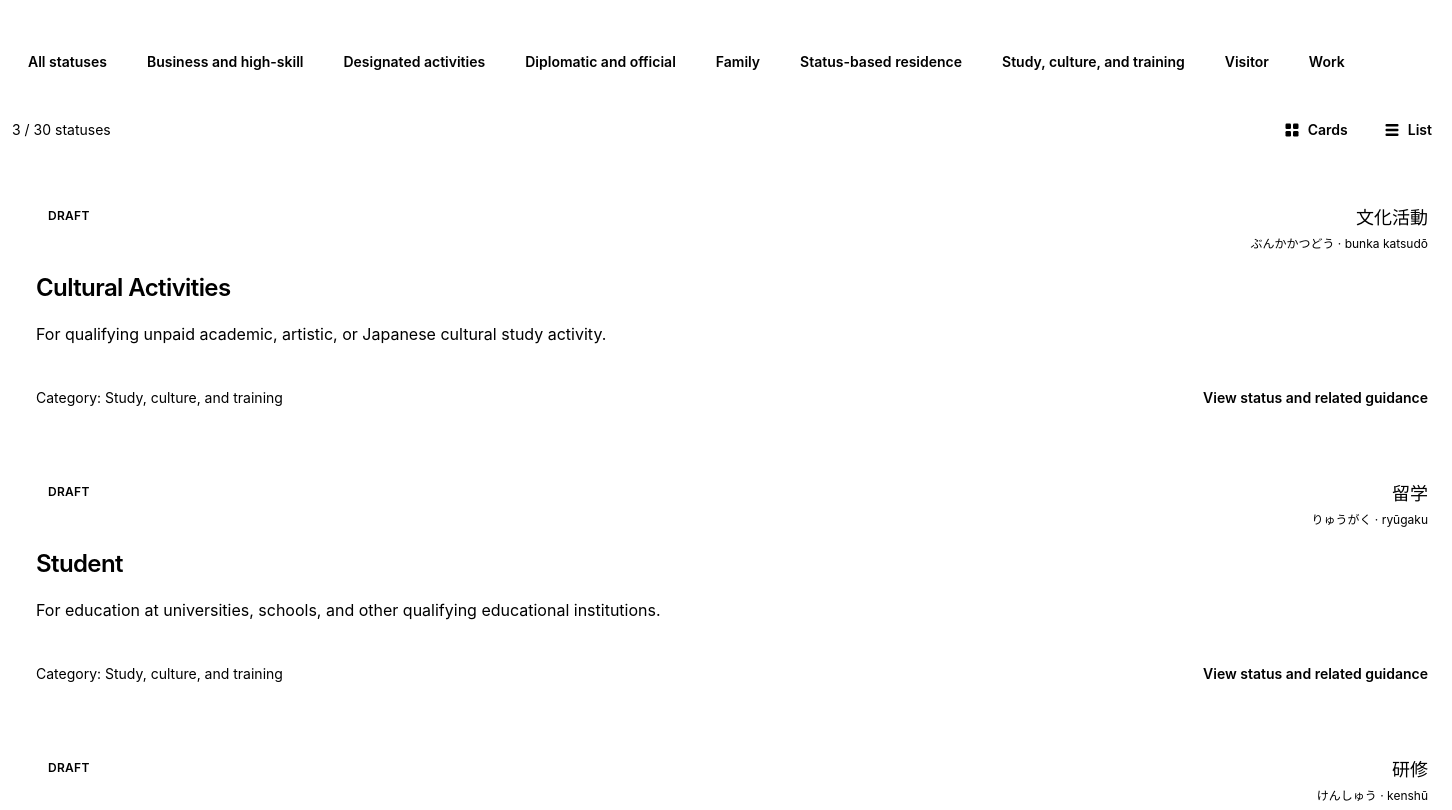
Test: ResidenceStatusExplorer › marks records still in progress and shows no status on reviewed ones
Click the button "Work" at (1327, 62), box [1293,40,1361,84]
(page scrolled)
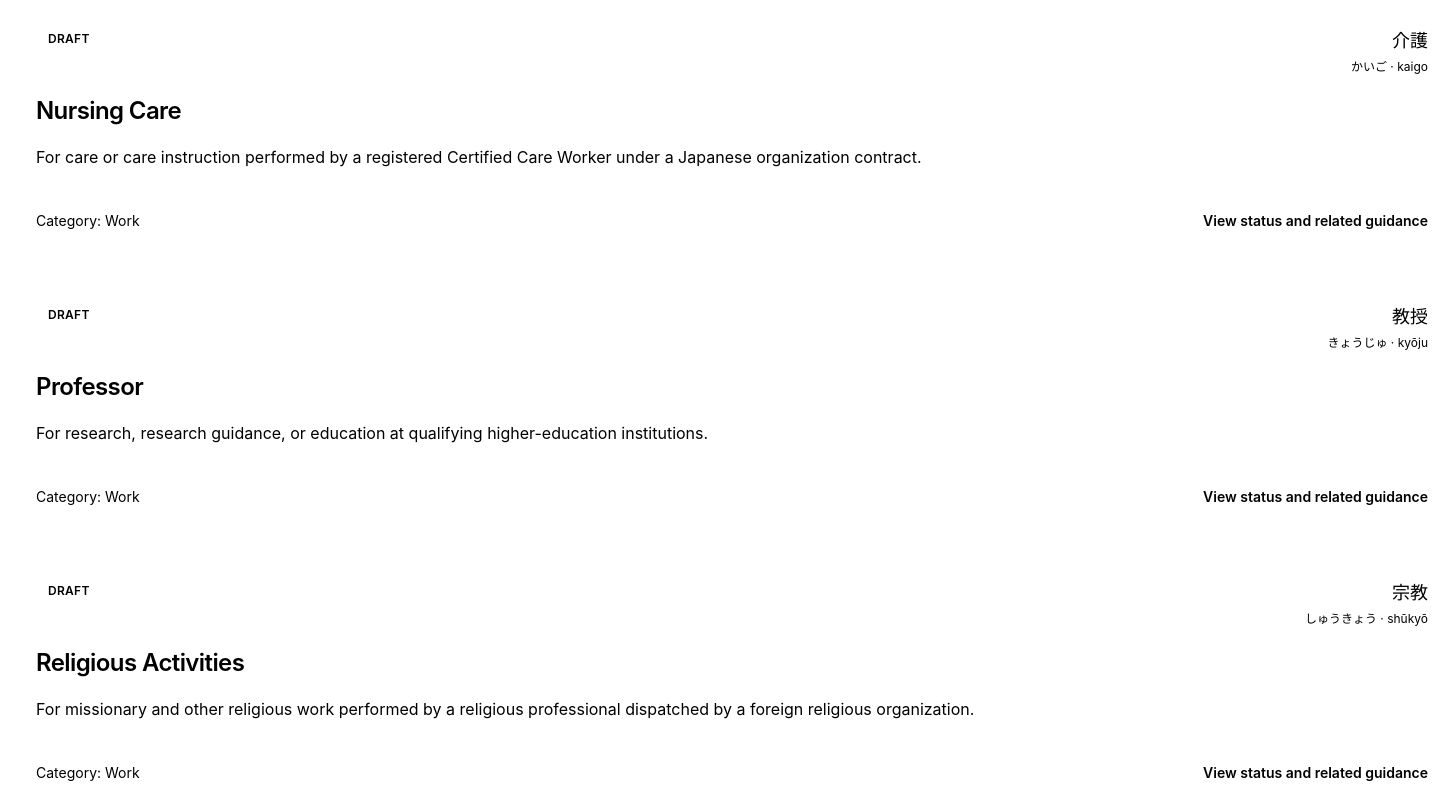
Expected: the link "Professor" shows "Draft", [12,279,1451,531]
